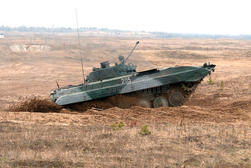bmp: (49, 40, 217, 108)
